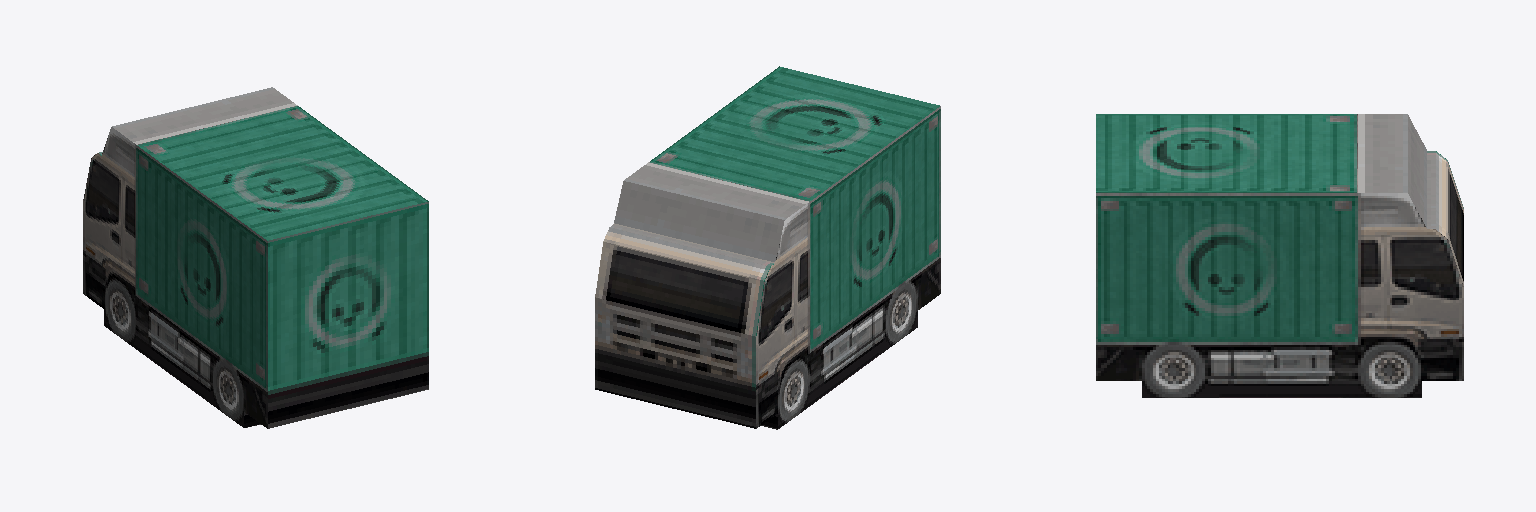
3 views of the same model, side by side, from view 1: azimuth 30°, elevation 25°; view 2: azimuth 150°, elevation 25°; view 3: azimuth 270°, elevation 25° (orthographic).
Visible parts, largest first — view 1: truck_green; view 2: truck_green; view 3: truck_green.
Boxes of the visible parts, x1,y1,x2,y2 form: truck_green: [83, 87, 428, 428]; truck_green: [595, 66, 940, 429]; truck_green: [1096, 114, 1463, 397].
Bounding box in the file's own units: 0.83 × 1.01 × 1.64.
Materials: 1 (1 with a texture image).